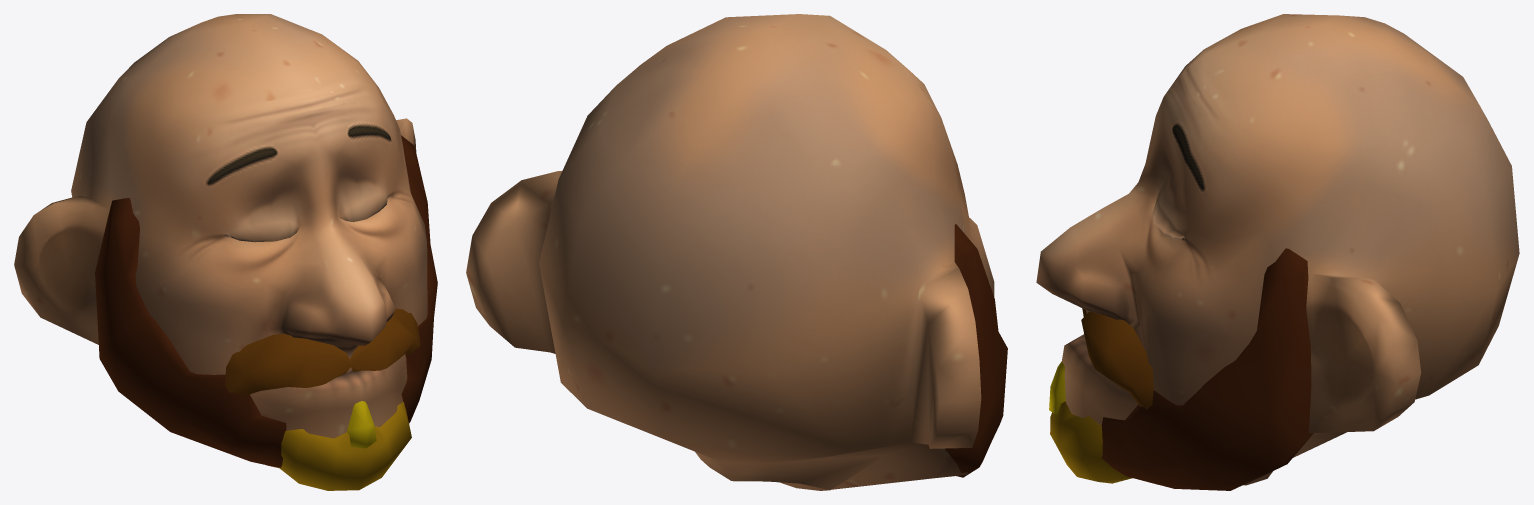
Rendered from E_pose05.fbx.
3 renders of one model, left to right at view 1: azimuth 30°, elevation 25°; view 2: azimuth 150°, elevation 25°; view 3: azimuth 270°, elevation 25°, orthographic. The views are drawn at different scales.
Visible parts, largest first — view 1: HEAD, BEARD; view 2: HEAD, BEARD; view 3: HEAD, BEARD.
Boxes of the visible parts, bbox=[...] form: HEAD: bbox=[14, 14, 427, 467]; BEARD: bbox=[95, 135, 437, 490]; HEAD: bbox=[466, 14, 994, 490]; BEARD: bbox=[945, 224, 1007, 477]; HEAD: bbox=[1036, 14, 1519, 485]; BEARD: bbox=[1049, 248, 1313, 490].
Bounding box in the file's own units: 27.45 × 25.46 × 24.9.
